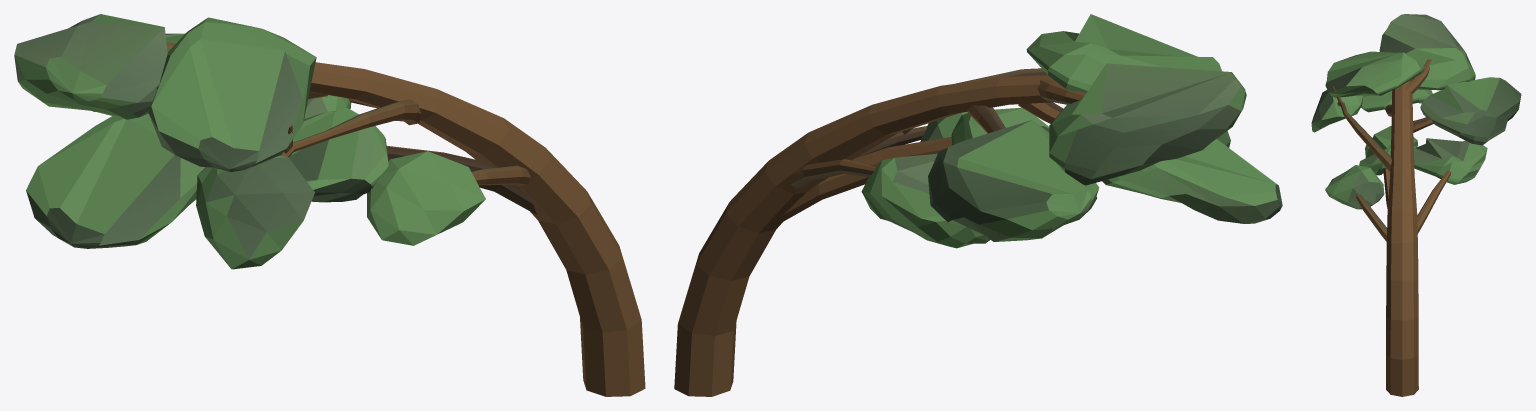
File: Tree80Bend 1.fbx
3 views of the same model, side by side, from view 1: azimuth 30°, elevation 25°; view 2: azimuth 150°, elevation 25°; view 3: azimuth 270°, elevation 25° (orthographic). The views are drawn at different scales.
Visible parts, largest first — view 1: TreeBend80; view 2: TreeBend80; view 3: TreeBend80.
Part boxes in pixels (x1,y1,x2,y2): TreeBend80: (14, 14, 645, 396); TreeBend80: (674, 14, 1282, 396); TreeBend80: (1311, 14, 1521, 396).
Bounding box in the file's own units: 741 × 536 × 430.
